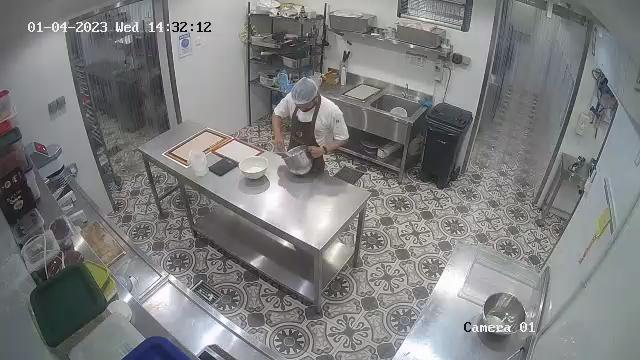apron: (278, 98, 344, 169)
